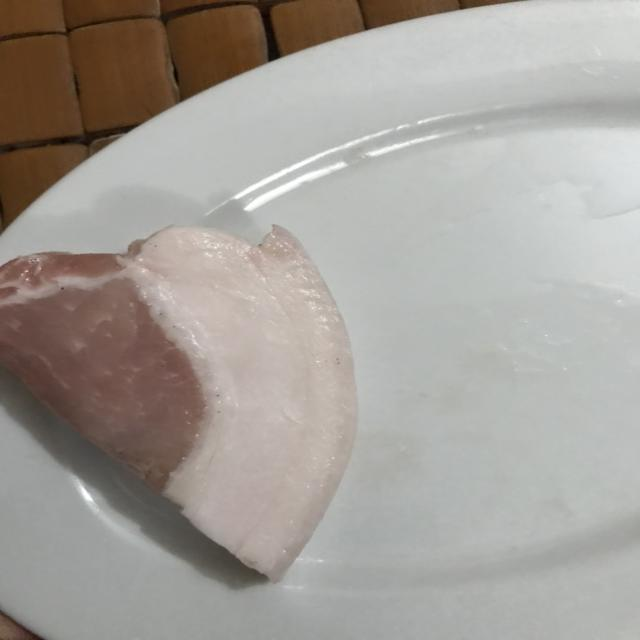chicken: (0, 222, 368, 588)
